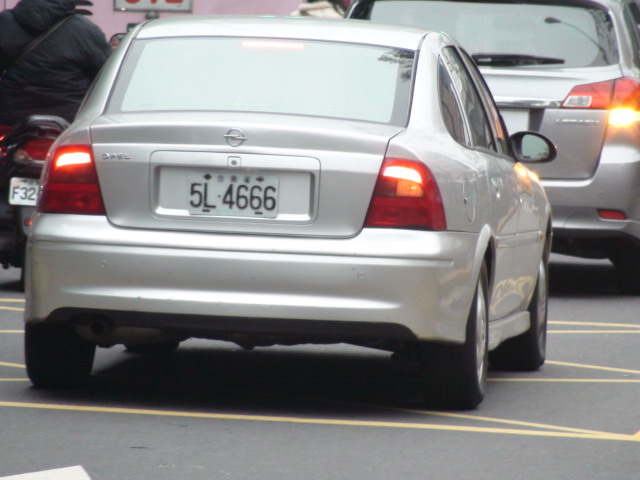plate: (188, 172, 281, 220)
